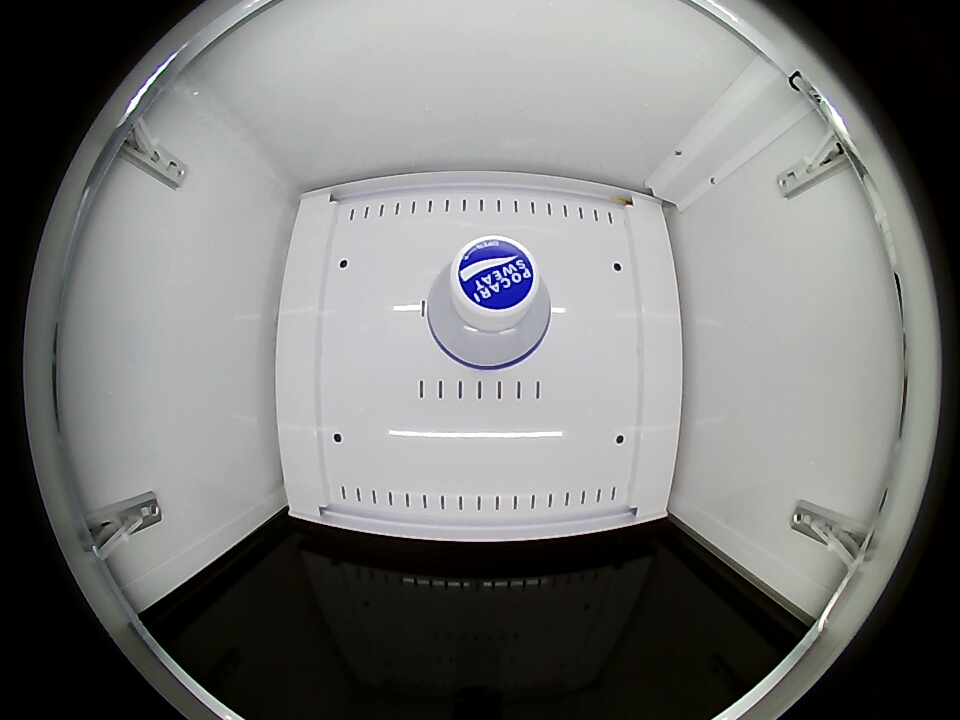baokuangli: (424, 237, 551, 370)
